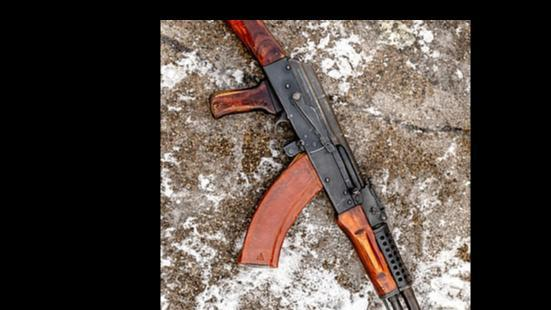larga: (209, 20, 420, 310)
